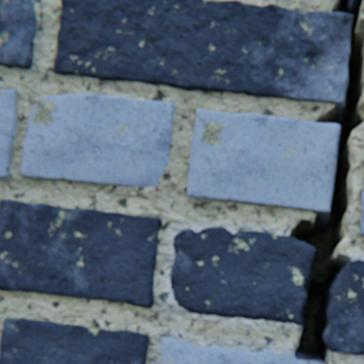brick: (55, 0, 352, 105), (0, 200, 162, 308), (187, 110, 339, 212), (23, 95, 175, 188), (0, 318, 149, 363), (0, 0, 37, 69), (0, 90, 19, 179), (349, 0, 361, 12), (360, 189, 363, 235)
broken_brick: (171, 228, 314, 324), (161, 338, 323, 363), (323, 260, 363, 354)
crack: (290, 0, 363, 363)
